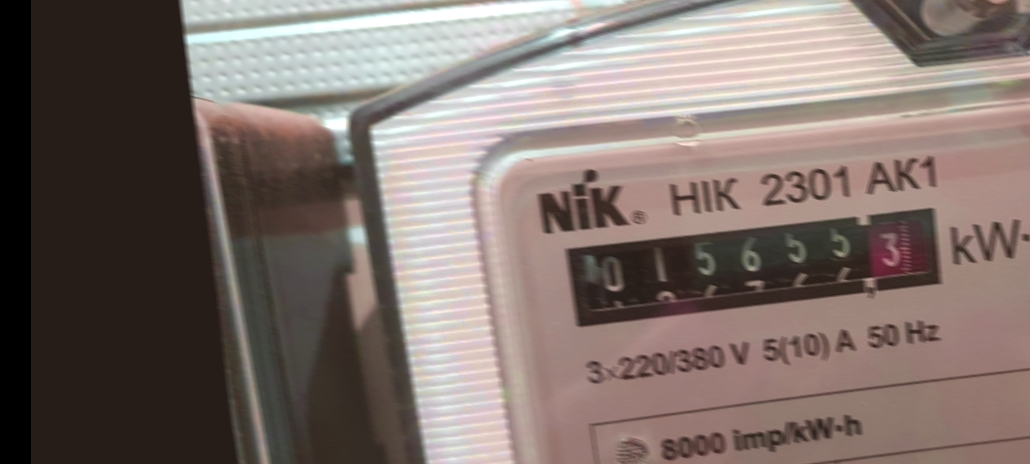0: (597, 252, 627, 296)
1: (649, 245, 672, 286)
3: (878, 231, 902, 269)
5: (690, 241, 719, 279), (783, 232, 809, 266), (830, 226, 852, 260)
6: (737, 236, 764, 275)
screen: (551, 188, 959, 346)
